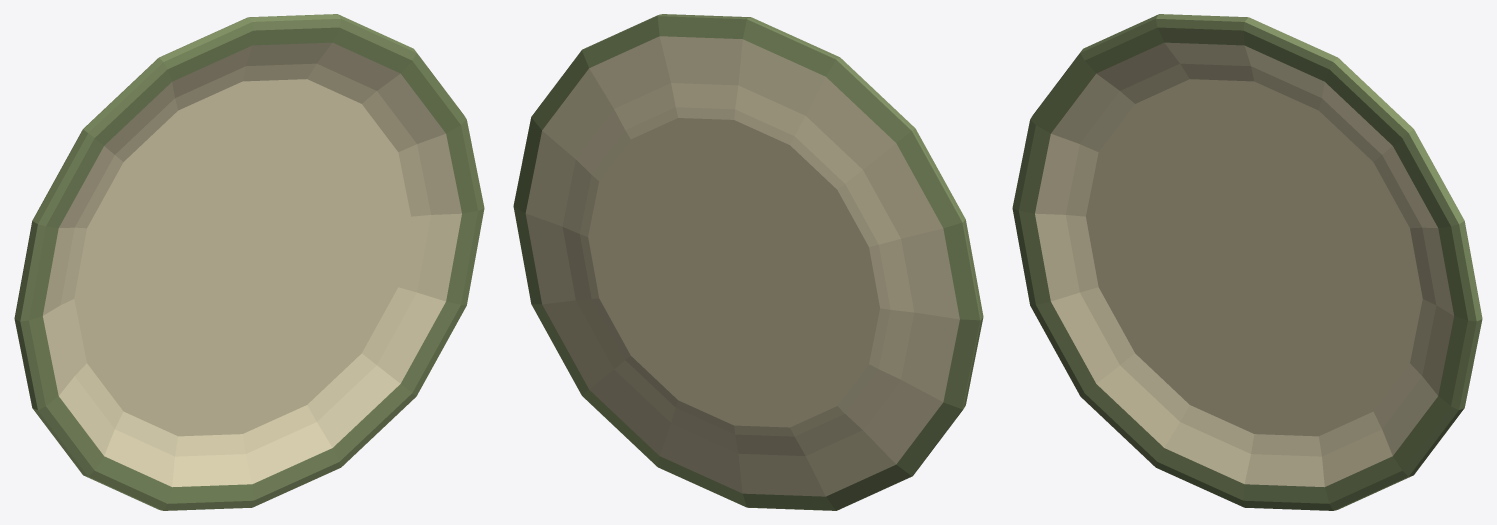
The model's file is plate.glb.
The picture shows the model from 3 angles, left to right: view 1: azimuth 30°, elevation 25°; view 2: azimuth 150°, elevation 25°; view 3: azimuth 330°, elevation 25°; orthographic projection.
Visible parts, largest first — view 1: plate; view 2: plate; view 3: plate.
Boxes of the visible parts, x1,y1,x2,y2 form: plate: [14, 14, 484, 510]; plate: [513, 14, 983, 510]; plate: [1012, 14, 1482, 510].
Size of the model in its own units: 0.2498 by 0.2498 by 0.017.
